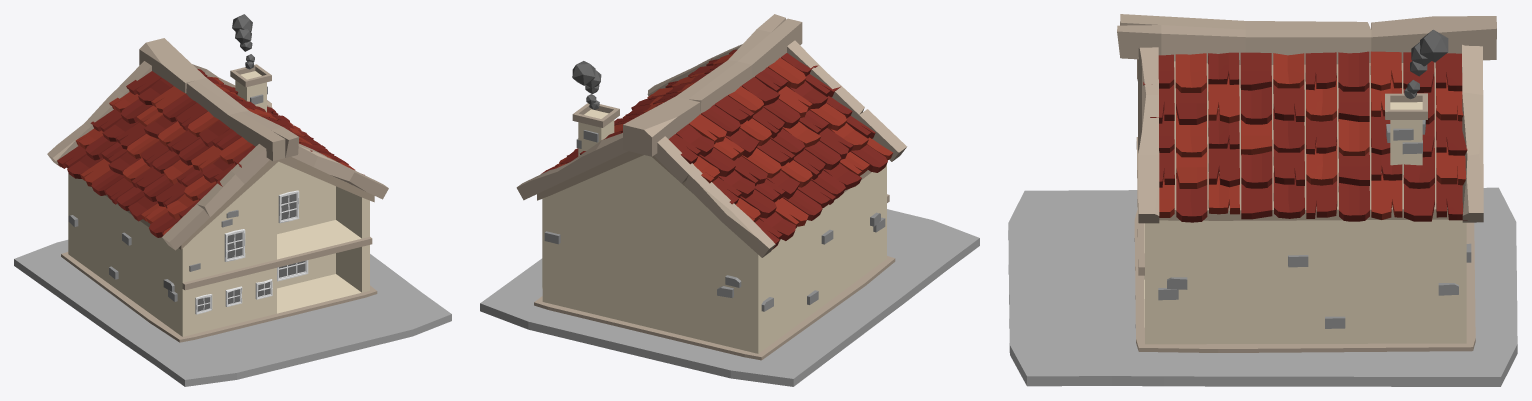
The model's file is island_house.glb.
The picture shows the model from 3 angles, left to right: view 1: azimuth 30°, elevation 25°; view 2: azimuth 150°, elevation 25°; view 3: azimuth 270°, elevation 25°; orthographic projection. The views are drawn at different scales.
Visible parts, largest first — view 1: M_House; view 2: M_House; view 3: M_House.
Part boxes in pixels (x1,y1,x2,y2): M_House: (14,14,451,386); M_House: (480,14,979,386); M_House: (1008,14,1517,386).
Size of the model in its own units: 6.6 by 5 by 7.51.
Materials: 1 (1 with a texture image).
